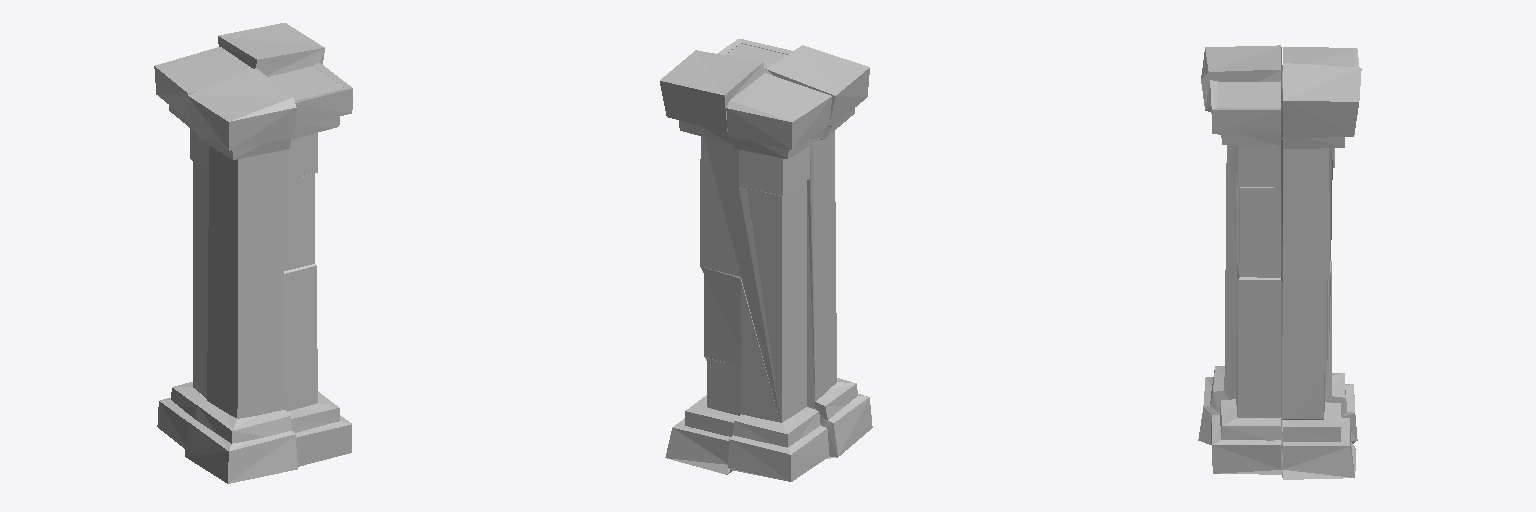
Rendered from Pillar2.obj.
3 views of the same model, side by side, from view 1: azimuth 30°, elevation 25°; view 2: azimuth 150°, elevation 25°; view 3: azimuth 270°, elevation 25° (orthographic).
Parts seen in each view (by area): view 1: Cube; view 2: Cube; view 3: Cube.
Boxes of the visible parts, <box> form: Cube: <box>154,23,352,483</box>; Cube: <box>660,39,872,481</box>; Cube: <box>1198,45,1361,479</box>.
Bounding box in the file's own units: 2.45 × 6.42 × 2.45.